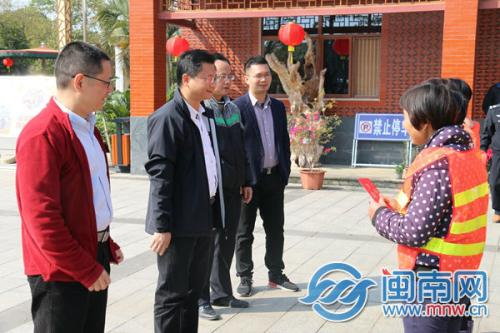boots: (267, 274, 299, 292), (211, 296, 249, 308), (197, 302, 219, 319), (236, 277, 252, 297)
person: (15, 41, 124, 333), (367, 77, 490, 333), (144, 49, 223, 333), (231, 55, 300, 297), (198, 52, 253, 320)
vest: (380, 151, 486, 271)
